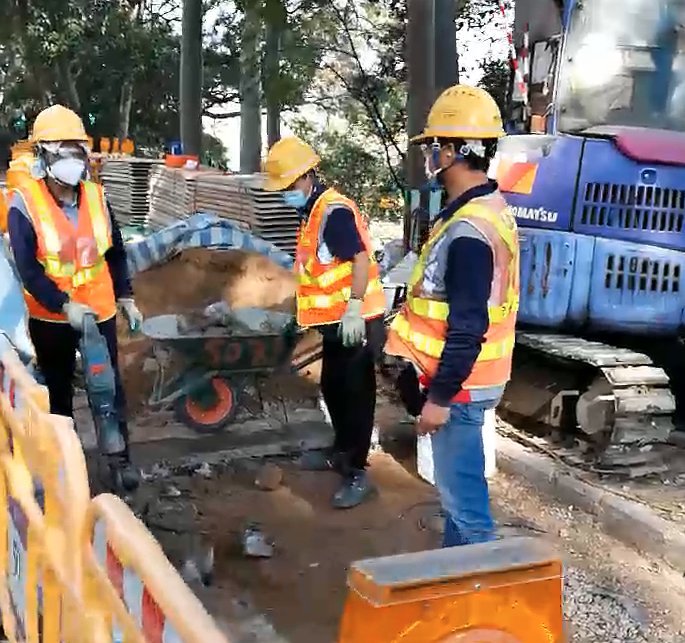Hard Hat: (415, 86, 502, 186), (33, 106, 90, 183), (263, 138, 320, 206)
Person: (402, 87, 519, 547), (11, 108, 140, 489), (262, 136, 389, 507)
Vest: (401, 162, 519, 393), (17, 153, 119, 324), (293, 186, 387, 327)
